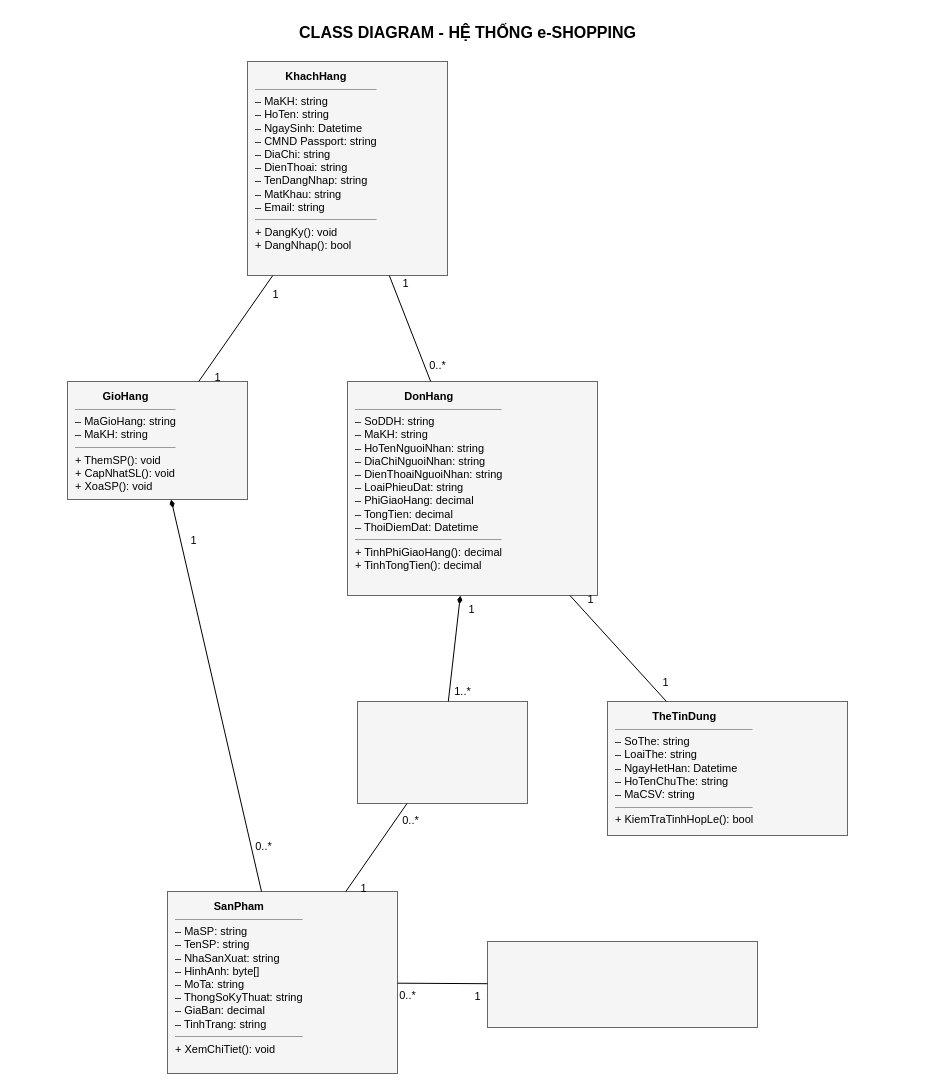
Some shapes in this 934 by 1091 pixel diagram are drawn without their labels. Here are the shapes that lost their labels. From the top down, the box of each, then its label:
(356, 700, 528, 804): ChiTietDonHang – SoDDH: string – MaSP: string – SoLuong: int – DonGia: decimal
(486, 940, 758, 1028): NhomSanPham – MaNhom: string – TenNhom: string + XemDanhSachSP(): List<SanPham>
